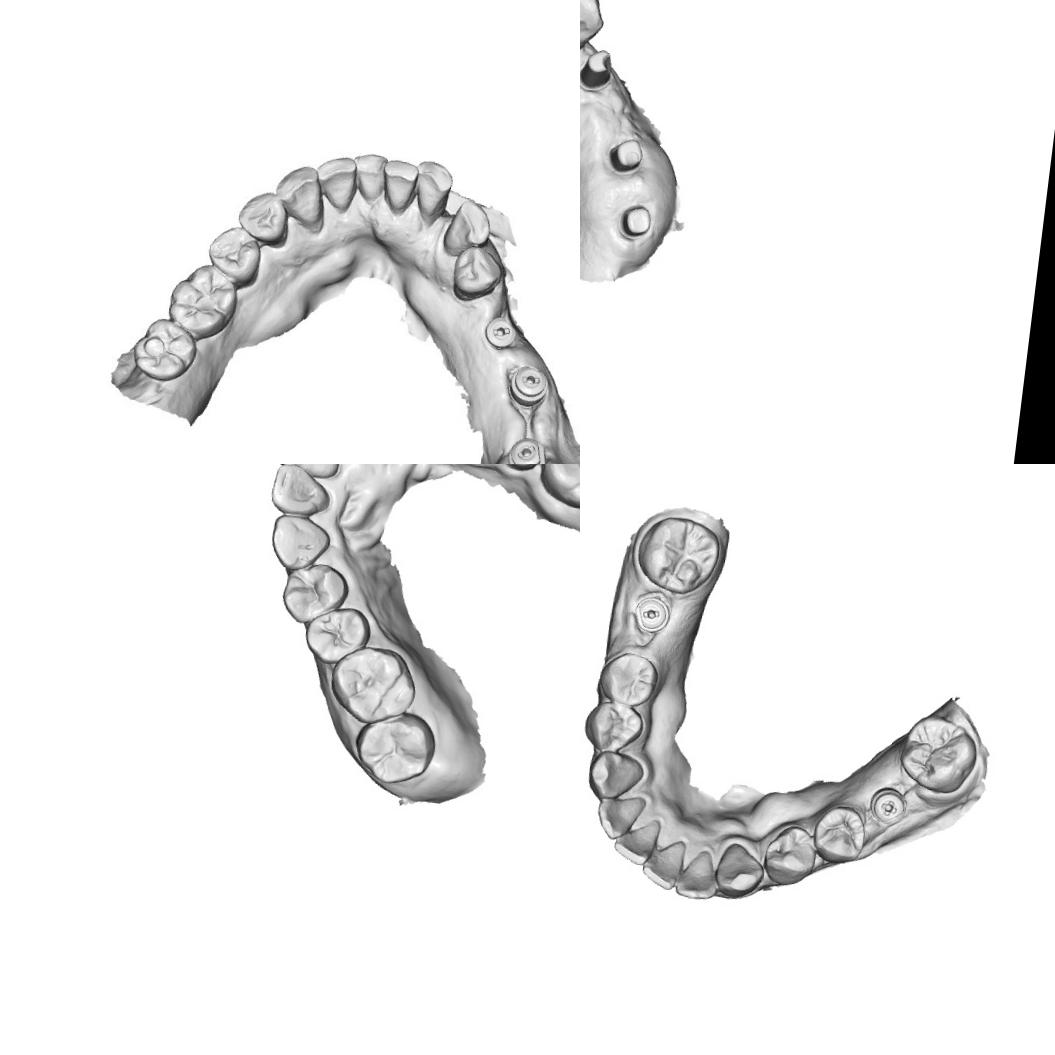abutment: (580, 45, 617, 94), (606, 135, 647, 176), (618, 201, 654, 241)
canine: (267, 512, 333, 576), (272, 161, 332, 231), (711, 838, 769, 902), (582, 748, 648, 804), (438, 195, 494, 260), (580, 0, 609, 59)
implant_minus: (477, 309, 524, 355), (504, 360, 548, 408), (631, 593, 674, 635), (504, 433, 552, 464)
implant_plus: (865, 784, 911, 830)
incisor: (268, 464, 334, 520), (609, 813, 664, 871), (592, 789, 647, 845), (671, 844, 722, 904), (638, 834, 689, 893), (316, 154, 362, 214), (408, 160, 454, 219), (380, 161, 417, 212), (352, 156, 389, 204), (265, 464, 345, 480)
molar: (324, 641, 420, 730), (632, 509, 726, 598), (894, 709, 984, 800), (350, 704, 439, 790), (166, 268, 236, 336), (132, 315, 200, 382), (535, 464, 580, 515)
premolar: (278, 559, 353, 630), (300, 602, 374, 670), (758, 820, 822, 890), (202, 221, 266, 289), (594, 648, 662, 710), (808, 800, 870, 868), (580, 697, 648, 757), (235, 188, 292, 250), (446, 247, 507, 304)
